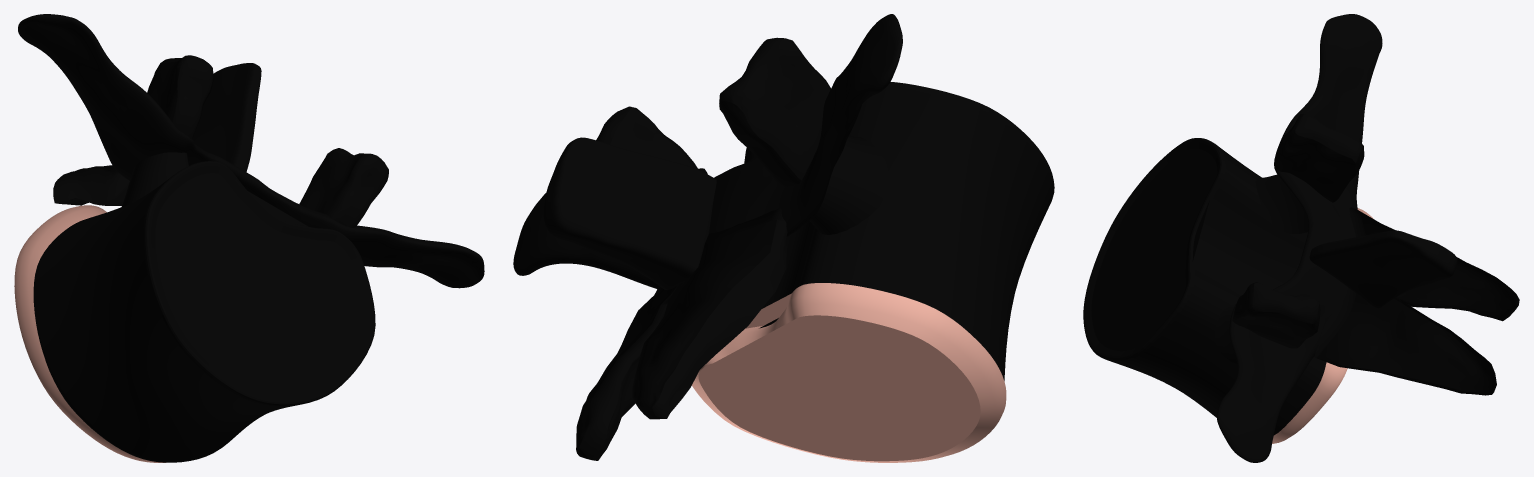
The model's file is vertebra.obj.
3 renders of one model, left to right at view 1: azimuth 30°, elevation 25°; view 2: azimuth 150°, elevation 25°; view 3: azimuth 270°, elevation 25°, orthographic. The views are drawn at different scales.
Parts seen in each view (by area): view 1: Line21, Box84, Box83, Box81, bandscheibe19, Box82, Cone42; view 2: bandscheibe19, Line21, Box82, Box81, Box84, Box83, Cone42; view 3: Line21, Box84, Box82, Box83, Box81, Cone42, bandscheibe19, Cone41.
Part boxes in pixels (<box>): Line21: <box>33,161,375,462</box>; Box84: <box>18,14,484,288</box>; Box83: <box>147,55,388,227</box>; Box81: <box>192,63,261,172</box>; bandscheibe19: <box>14,205,165,462</box>; Box82: <box>53,165,129,205</box>; Cone42: <box>121,152,188,207</box>; bandscheibe19: <box>692,283,1006,462</box>; Line21: <box>744,82,1054,380</box>; Box82: <box>576,208,787,460</box>; Box81: <box>543,137,716,289</box>; Box84: <box>513,14,902,288</box>; Box83: <box>596,37,830,186</box>; Cone42: <box>810,135,888,234</box>; Line21: <box>1083,138,1326,435</box>; Box84: <box>1217,14,1382,462</box>; Box82: <box>1314,207,1519,395</box>; Box83: <box>1232,113,1364,348</box>; Box81: <box>1309,230,1457,308</box>; Cone42: <box>1255,174,1308,233</box>; bandscheibe19: <box>1272,208,1373,443</box>; Cone41: <box>1215,304,1237,363</box>.
Bounding box in the file's own units: 9.34 × 8.88 × 9.32.
